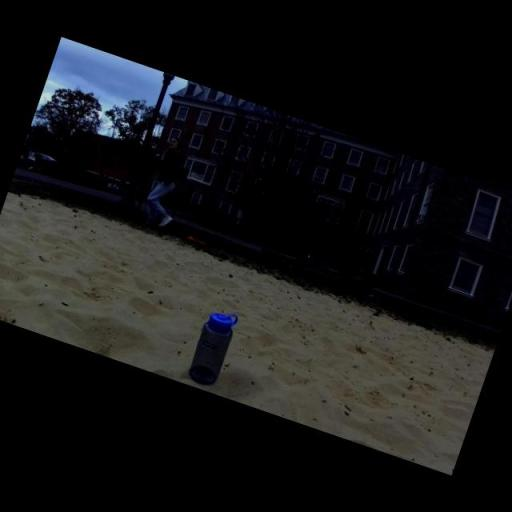bottle: (183, 304, 240, 390)
